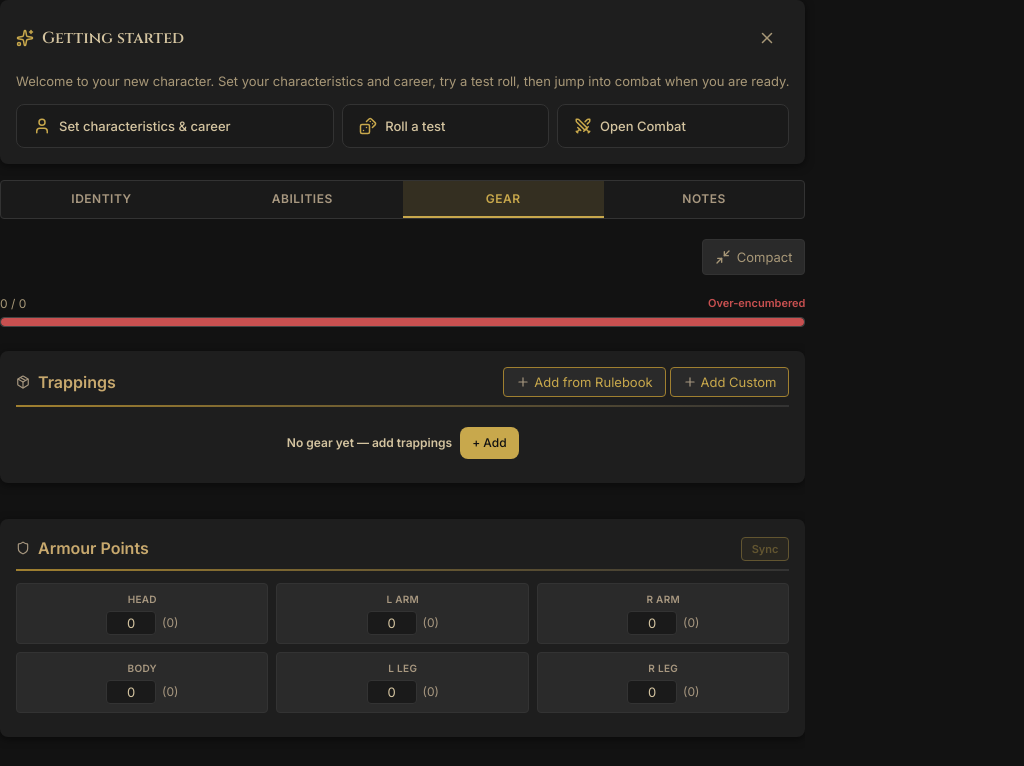
it: CharacterPage Deposit_Control (wealth-treasury-transfer Task 9) › over-amount → inline error and no change to wealth, treasury, ledger, or eventLog (Req 1.4, 3.4, 7.2)
Click the tab "Gear" at (503, 199), box [403,180,604,218]
(page scrolled)
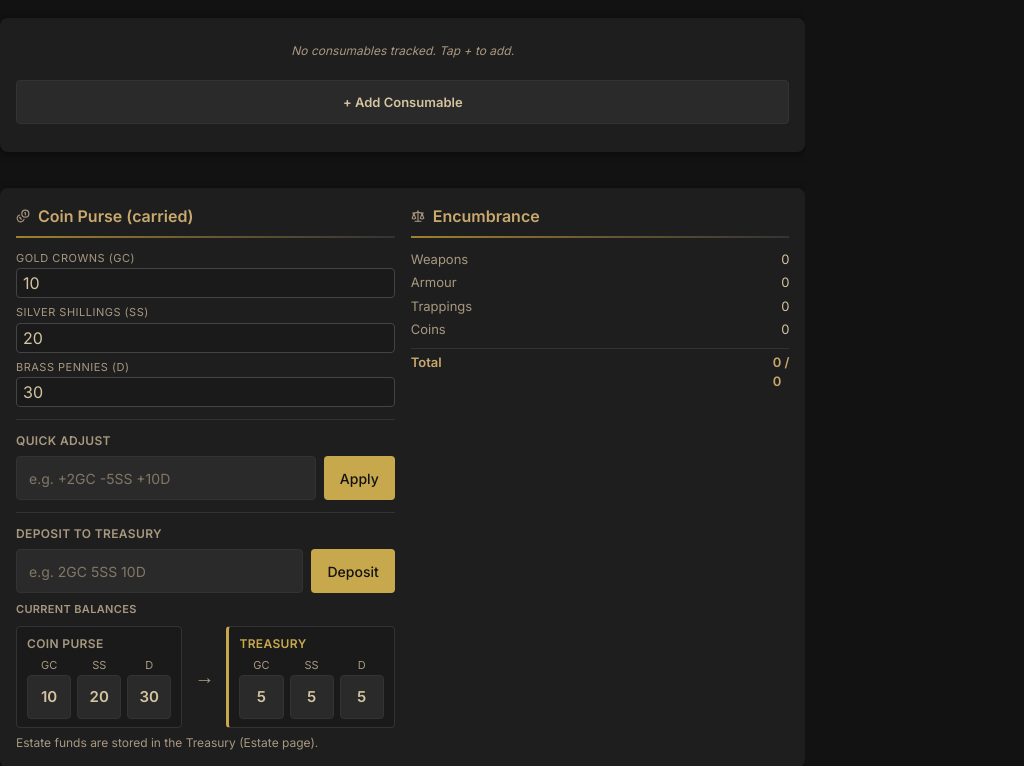
Type "999GC" into the field named "Deposit amount" at (160, 571), box [16,549,304,593]
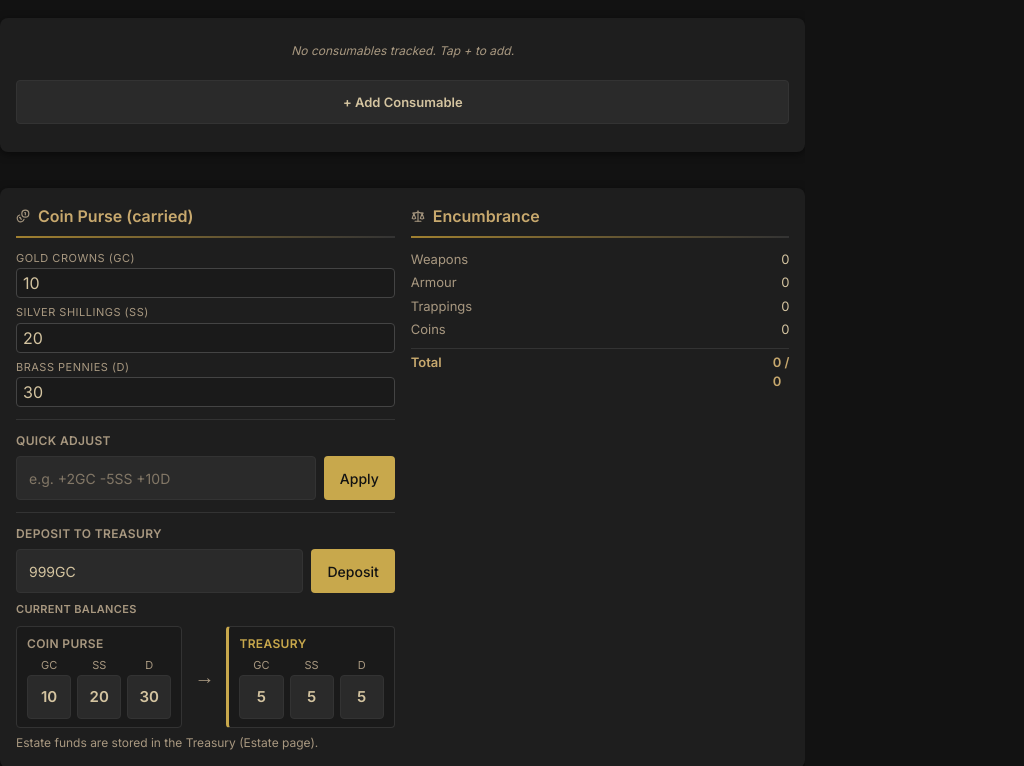
Click the button "Deposit" at (353, 571), box [312,549,395,593]
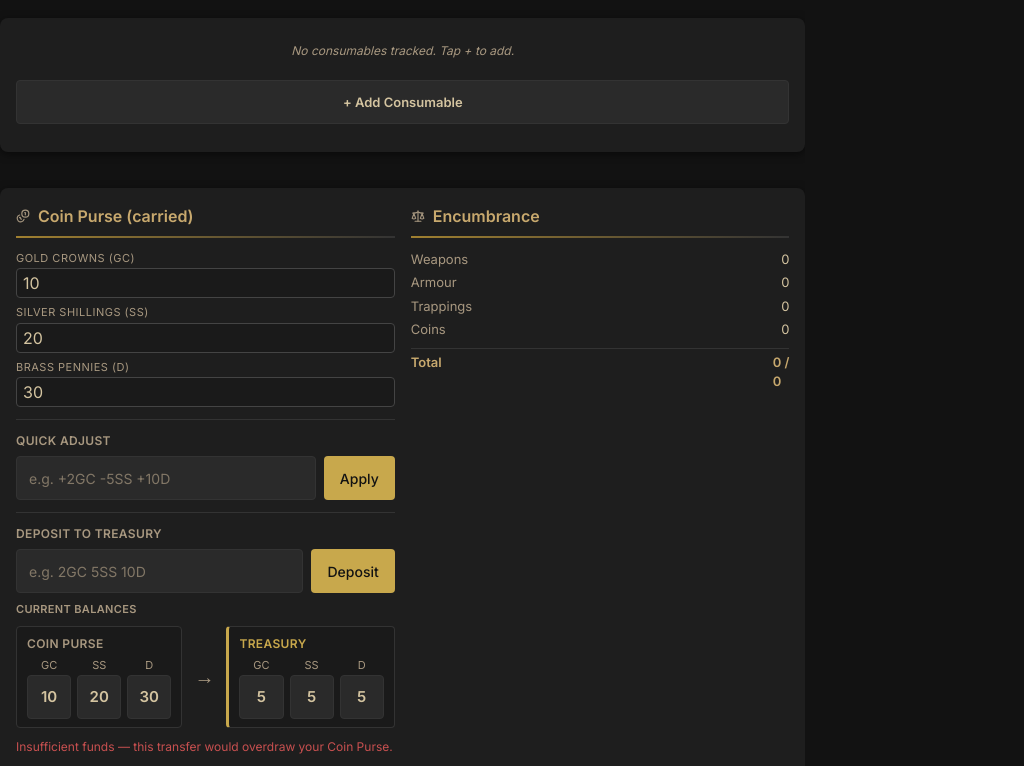
Now the message "Insufficient funds — this transfer would overdraw your Coin Purse." is shown, box [16,736,395,758]
Now the message shows "Insufficient", box [16,739,393,754]
